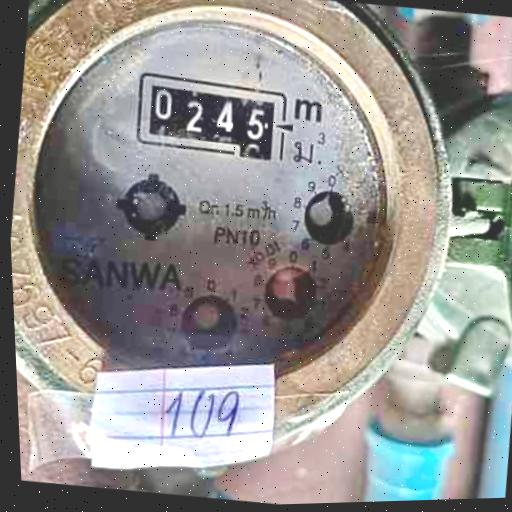0: (147, 85, 184, 139)
2: (176, 88, 215, 141)
4: (205, 92, 243, 146)
5: (232, 95, 279, 163)
border_water_meter_number: (126, 67, 296, 171)
